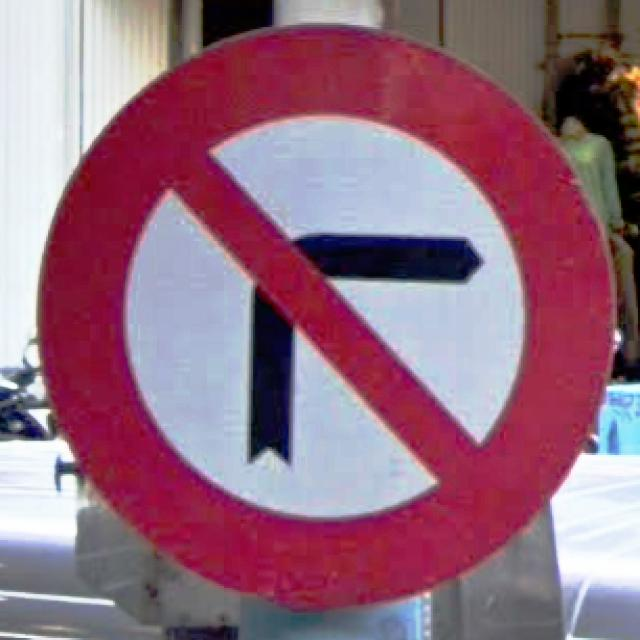noturnright: (38, 25, 619, 615)
